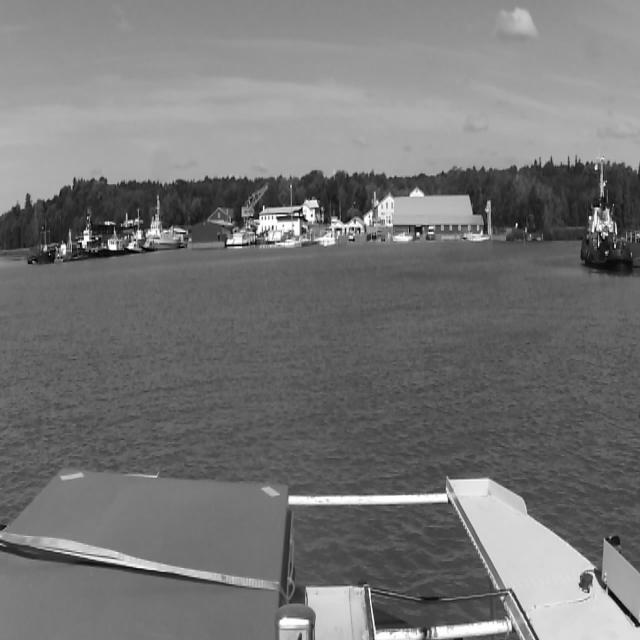ship: (580, 153, 634, 270), (275, 183, 297, 248), (468, 188, 490, 242), (316, 232, 336, 246), (392, 232, 410, 244), (427, 226, 435, 241)
